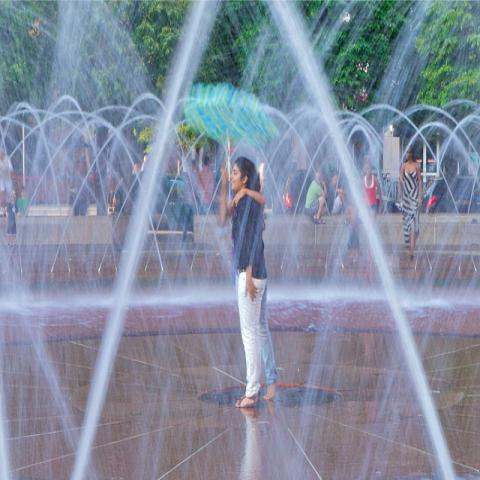car: (110, 172, 183, 228), (421, 175, 479, 214)
